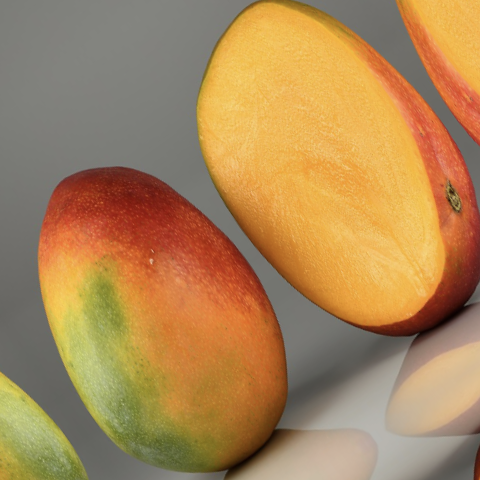mango: (124, 0, 480, 420), (0, 113, 366, 480)
